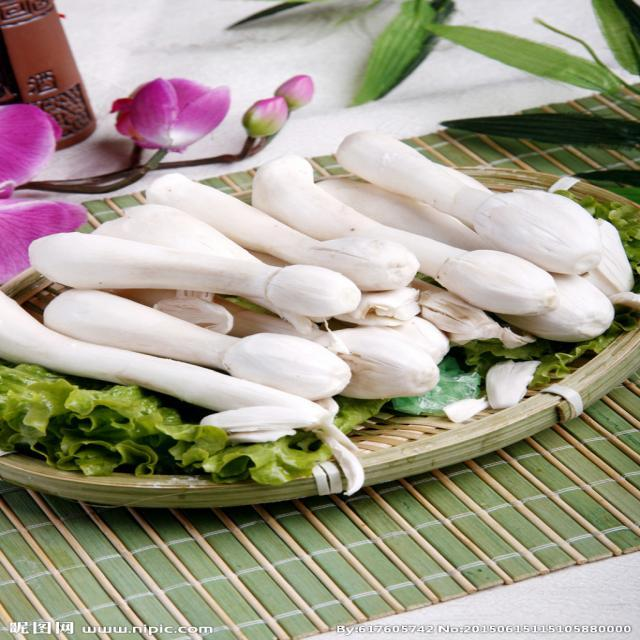Coprinus comatus: (248, 153, 552, 308), (345, 136, 605, 272), (41, 288, 355, 396), (154, 174, 420, 288), (26, 233, 362, 318)
